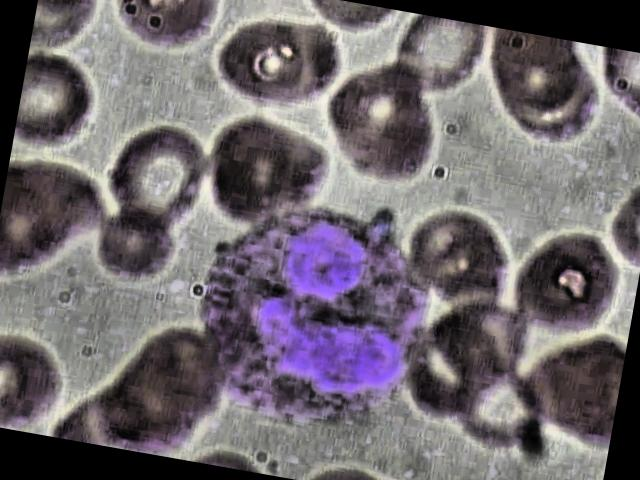RBC: (191, 108, 336, 237), (204, 1, 348, 125), (501, 222, 625, 354), (314, 62, 447, 184), (396, 202, 516, 321), (101, 117, 216, 236), (386, 10, 492, 104), (12, 48, 98, 161), (0, 319, 71, 435), (88, 205, 178, 291), (102, 0, 222, 59)
WBC: (175, 189, 441, 446)
